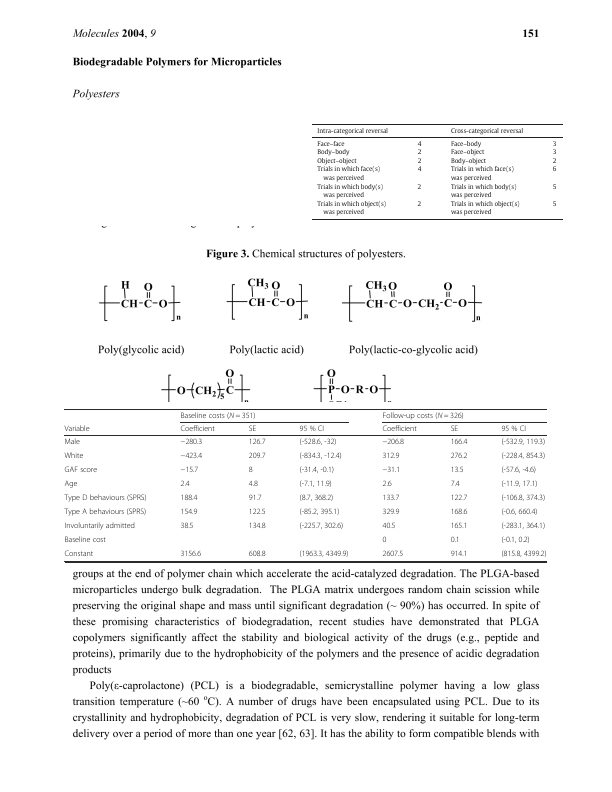borderless: (63, 407, 546, 561), (311, 122, 563, 219)
cell: (316, 200, 387, 217), (450, 200, 521, 217), (316, 182, 384, 199), (450, 182, 518, 199), (316, 165, 381, 182), (450, 165, 515, 182), (63, 493, 147, 503), (63, 507, 147, 517), (381, 411, 465, 420), (63, 521, 136, 531), (180, 411, 256, 420), (450, 127, 524, 135), (316, 127, 389, 135), (299, 549, 349, 559), (500, 549, 547, 559), (500, 437, 546, 447), (500, 451, 546, 461), (500, 493, 546, 503), (500, 521, 546, 531), (299, 521, 344, 531), (63, 535, 107, 545), (299, 451, 342, 461), (299, 507, 340, 517), (299, 437, 337, 447), (500, 479, 538, 489), (500, 507, 538, 517), (381, 424, 418, 434), (500, 465, 537, 475), (180, 424, 216, 434), (299, 465, 335, 475), (63, 465, 98, 475), (299, 493, 334, 503), (299, 479, 333, 489), (316, 157, 358, 165), (316, 148, 351, 157), (450, 148, 485, 157), (500, 535, 531, 545), (63, 549, 94, 559), (450, 157, 487, 165), (63, 424, 90, 434), (500, 424, 527, 434), (299, 424, 325, 434), (450, 140, 482, 148), (316, 140, 346, 148), (381, 437, 405, 447), (180, 437, 203, 447), (180, 451, 203, 461), (381, 549, 404, 559), (180, 549, 202, 559), (63, 451, 84, 461), (381, 465, 401, 475), (381, 451, 400, 461), (180, 465, 199, 475), (381, 493, 400, 503), (381, 507, 400, 517), (63, 437, 81, 447), (248, 437, 266, 447), (450, 437, 468, 447), (248, 451, 266, 461), (450, 451, 468, 461), (180, 493, 198, 503), (450, 493, 468, 503), (180, 507, 198, 517), (248, 507, 266, 517), (450, 507, 468, 517), (248, 521, 266, 531), (450, 521, 468, 531), (248, 549, 266, 559), (450, 549, 468, 559), (63, 479, 78, 489), (248, 493, 263, 503), (381, 521, 396, 531), (450, 465, 464, 475), (180, 521, 194, 531), (180, 479, 191, 489), (248, 479, 259, 489), (381, 479, 392, 489), (450, 479, 461, 489), (450, 535, 461, 545), (248, 424, 257, 434), (450, 424, 459, 434), (248, 465, 254, 475), (381, 535, 387, 545), (552, 148, 558, 157), (552, 165, 558, 174), (552, 182, 558, 191), (552, 140, 558, 148), (552, 157, 558, 165), (552, 200, 558, 208), (417, 148, 422, 157), (417, 165, 422, 174), (417, 182, 422, 191), (417, 140, 422, 148), (417, 157, 422, 165), (417, 200, 422, 208)
